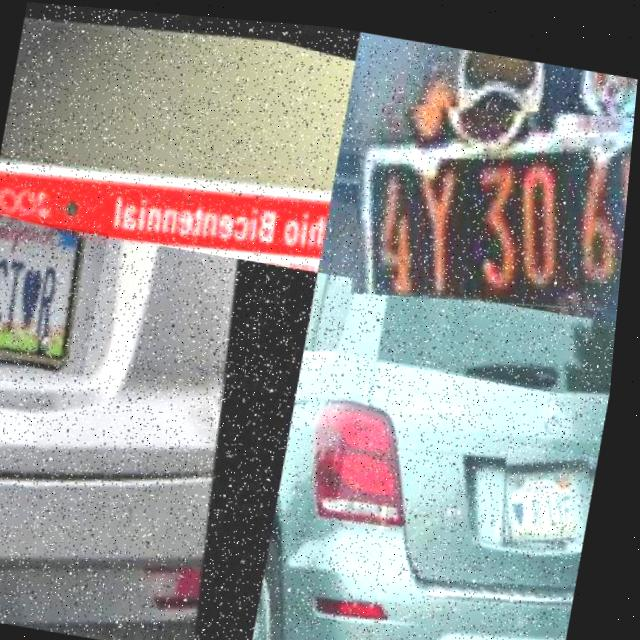LicensePlate: (338, 71, 637, 320), (0, 212, 112, 374), (502, 432, 606, 541)
